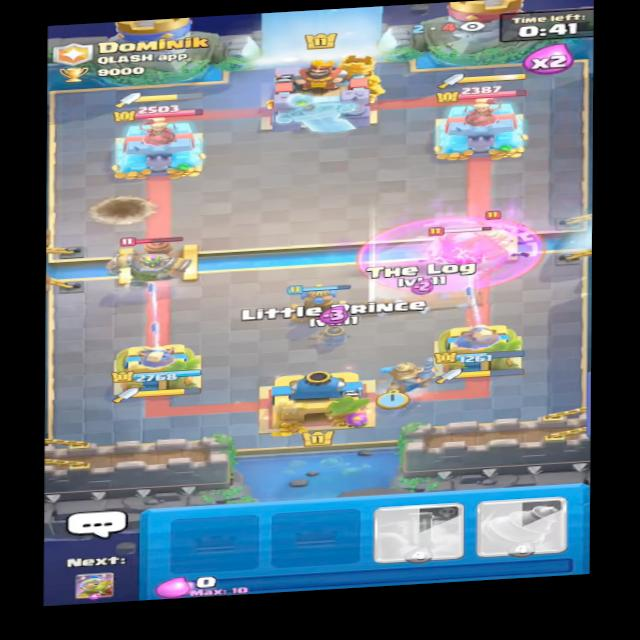Giant: (411, 220, 516, 279)
Goblinmachine: (103, 227, 201, 292)
Prince: (466, 211, 522, 260)
